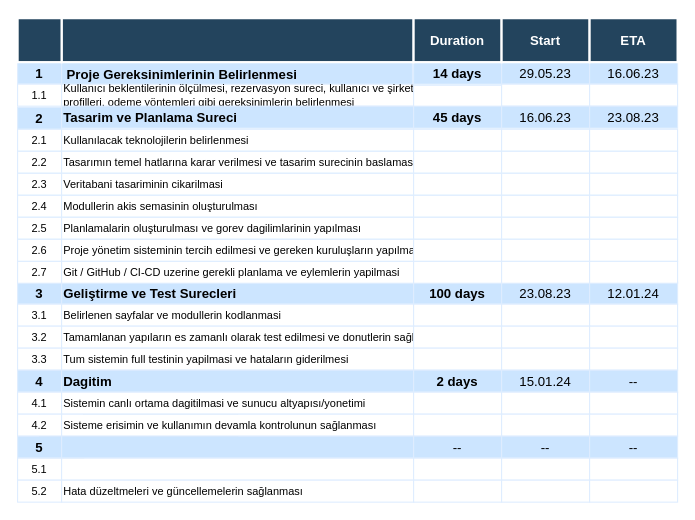
This 695x520 diagram has some shape labels left out. Here are the shapes that lost their labels. From the top down, the centre of each, then its label:
At (237,39): "Task Name".
At (237,446): "Güncelleme ve Bakim".
At (237,468): "Kullanıcı geri bildirimlerinin değerlendirilmesi ve iyileştirmelerin yapılması".
